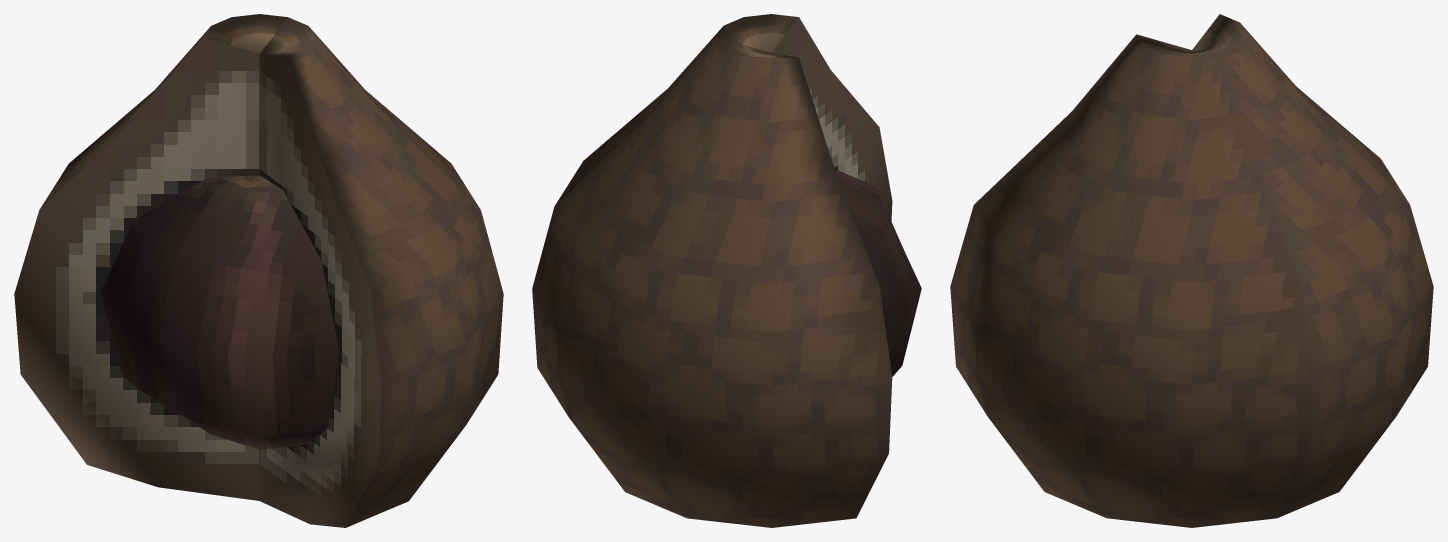
File: Obj_Nut_A.glb
3 views of the same model, side by side, from view 1: azimuth 30°, elevation 25°; view 2: azimuth 150°, elevation 25°; view 3: azimuth 270°, elevation 25° (orthographic).
Visible parts, largest first — view 1: Obj_Nut_A; view 2: Obj_Nut_A; view 3: Obj_Nut_A.
Boxes of the visible parts, x1,y1,x2,y2 form: Obj_Nut_A: (14, 14, 503, 527); Obj_Nut_A: (532, 14, 921, 527); Obj_Nut_A: (950, 14, 1433, 527).
Bounding box in the file's own units: 0.2213 × 0.2477 × 0.2372.
1 material, 1 textured.
